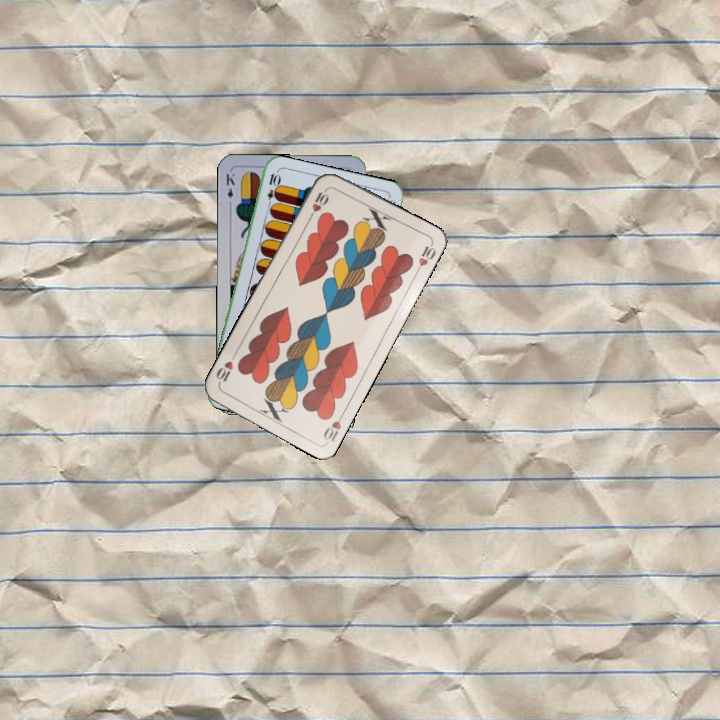E10: (263, 170, 281, 210)
EK: (222, 169, 238, 209)
H10: (319, 408, 347, 445), (305, 184, 331, 222)
